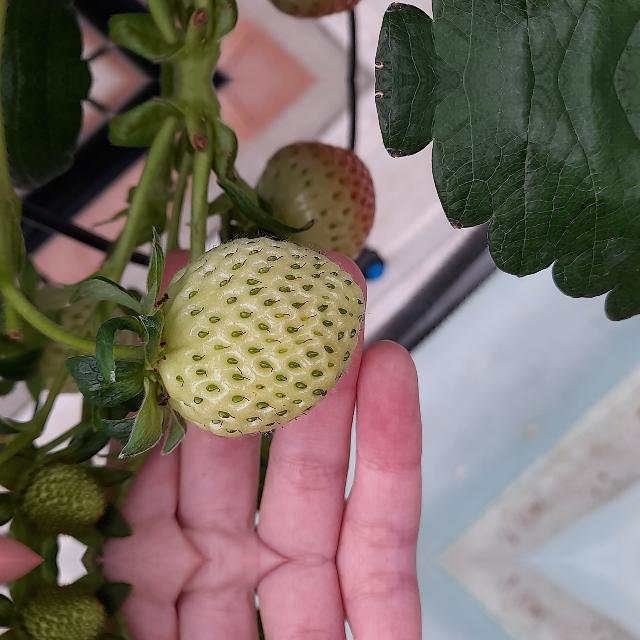Health_25: (158, 237, 364, 437), (15, 466, 111, 538), (15, 582, 111, 640)
Health_75: (251, 135, 375, 259), (251, 0, 375, 25)
